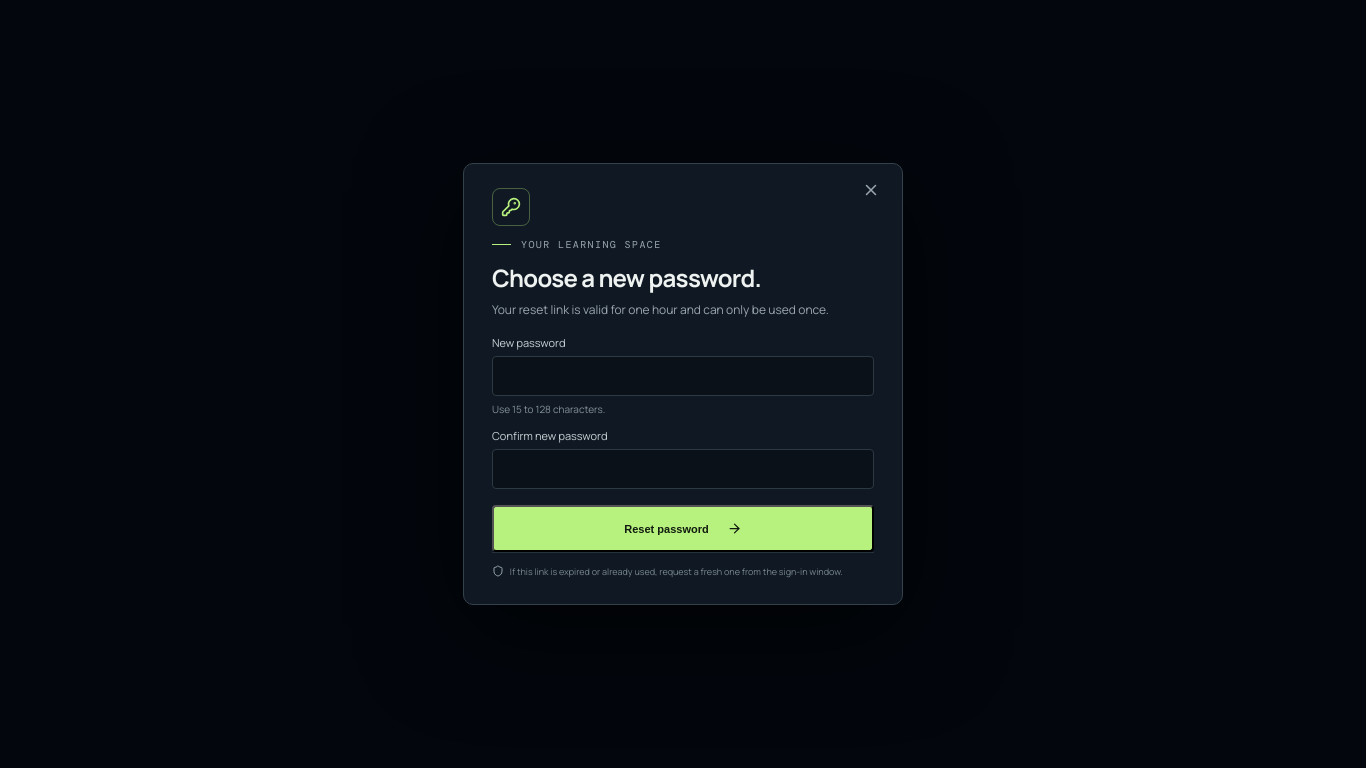
Test: email account links › resets a password with the email token and requires matching confirmation
This screenshot has width=1366, height=768.
Type "a-long-new-password-for-testing" into the password field labelled "New password Use 15 to 128 characters.".
click(683, 376); type("a-long-new-password-for-testing")  # box [492,356,874,396]
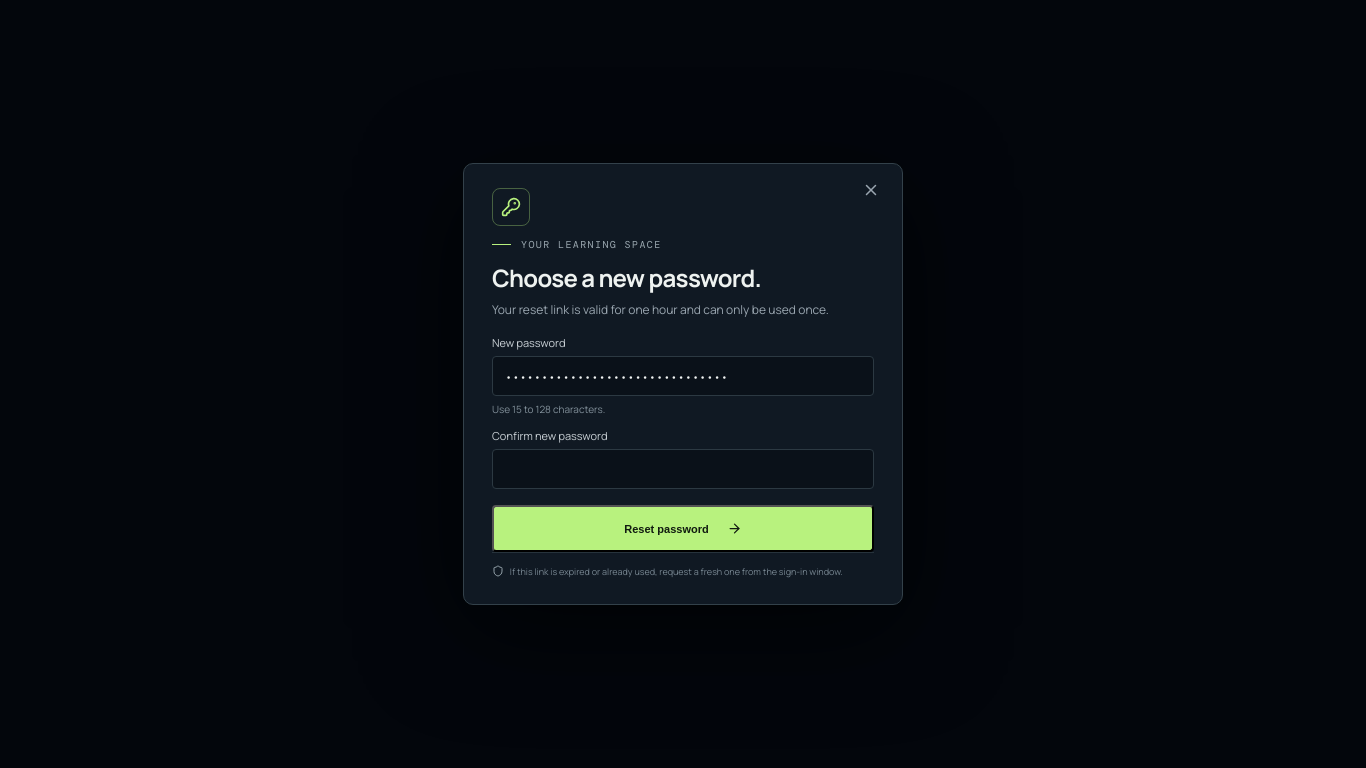
Type "a-different-new-password" into the password field labelled "Confirm new password".
click(683, 469); type("a-different-new-password")  # box [492,449,874,489]
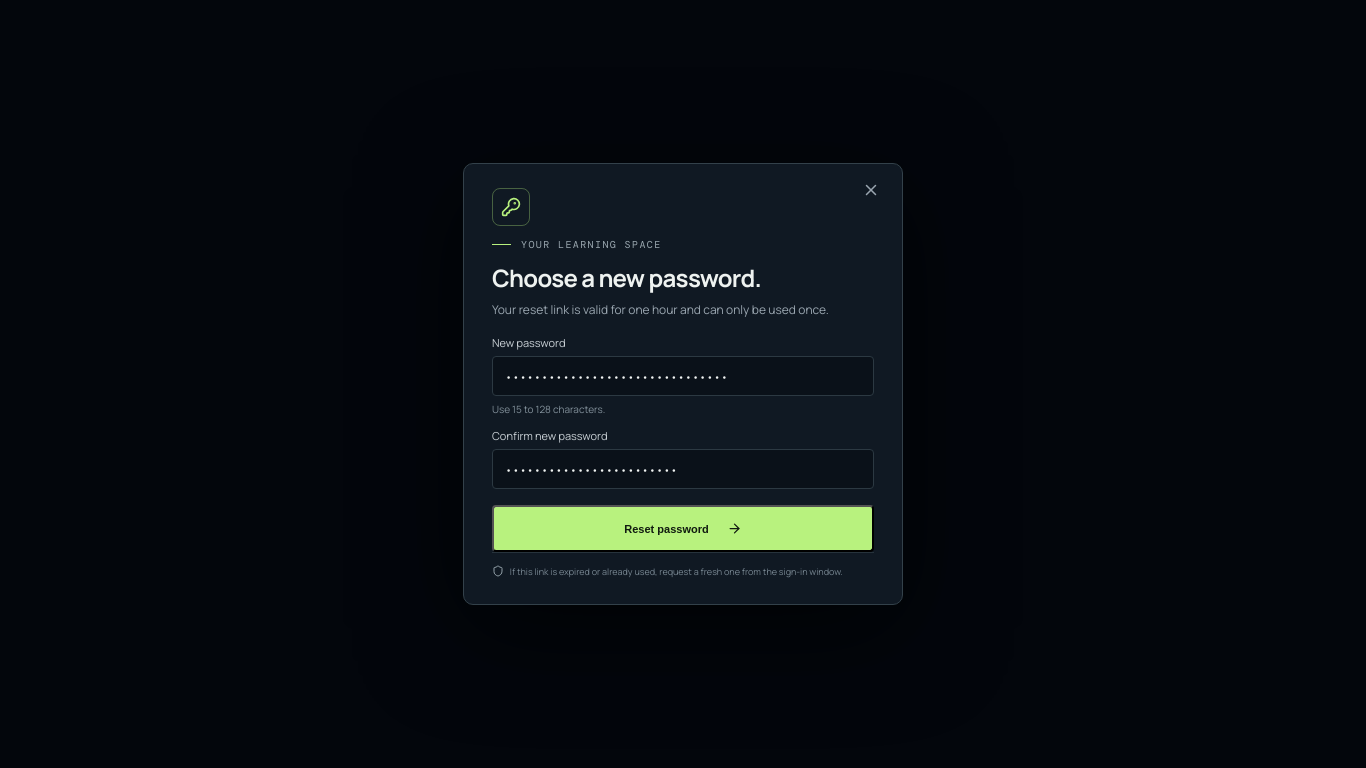
Click the button "Reset password".
click(683, 529)  # box [492,505,874,552]
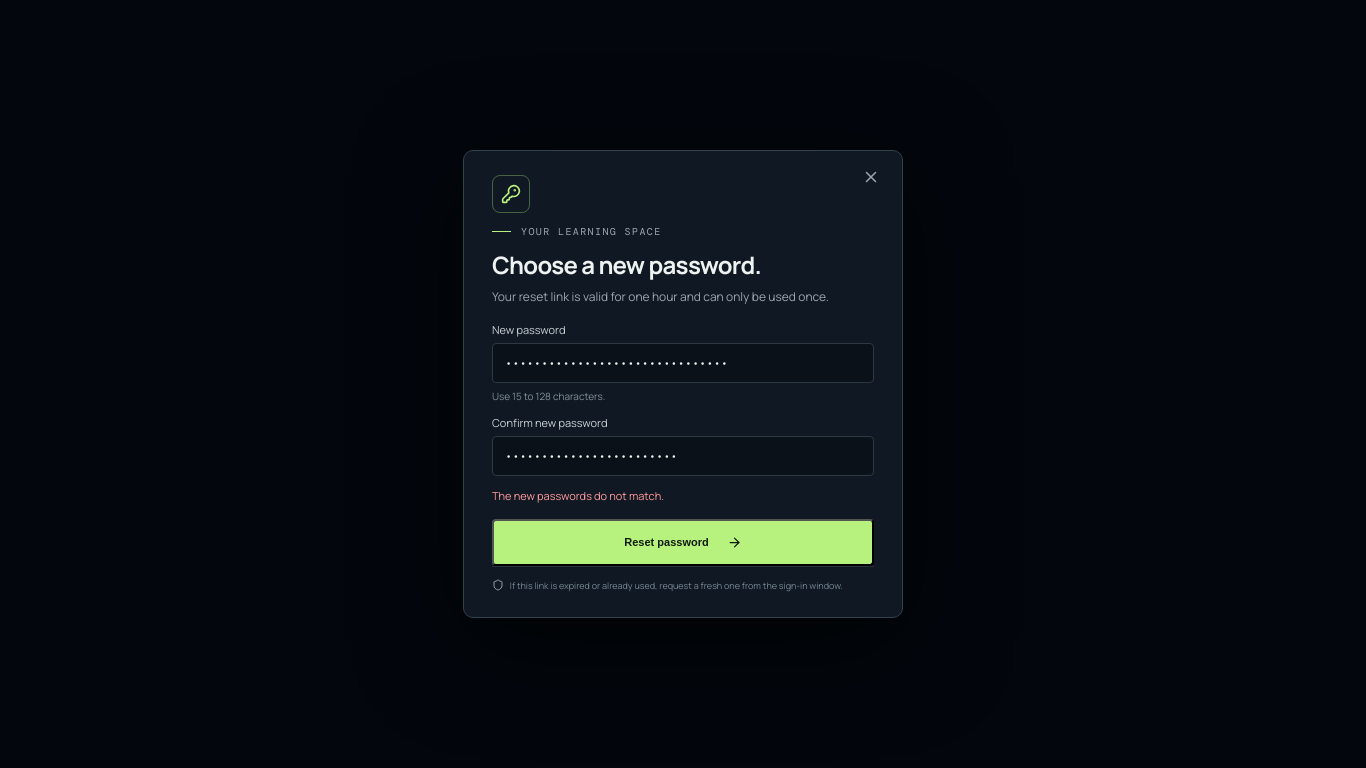
Expected: the message reads "The new passwords do not match.", [492,488,664,503]
Type "a-long-new-password-for-testing" into the password field labelled "Confirm new password".
click(683, 456); type("a-long-new-password-for-testing")  # box [492,436,874,476]
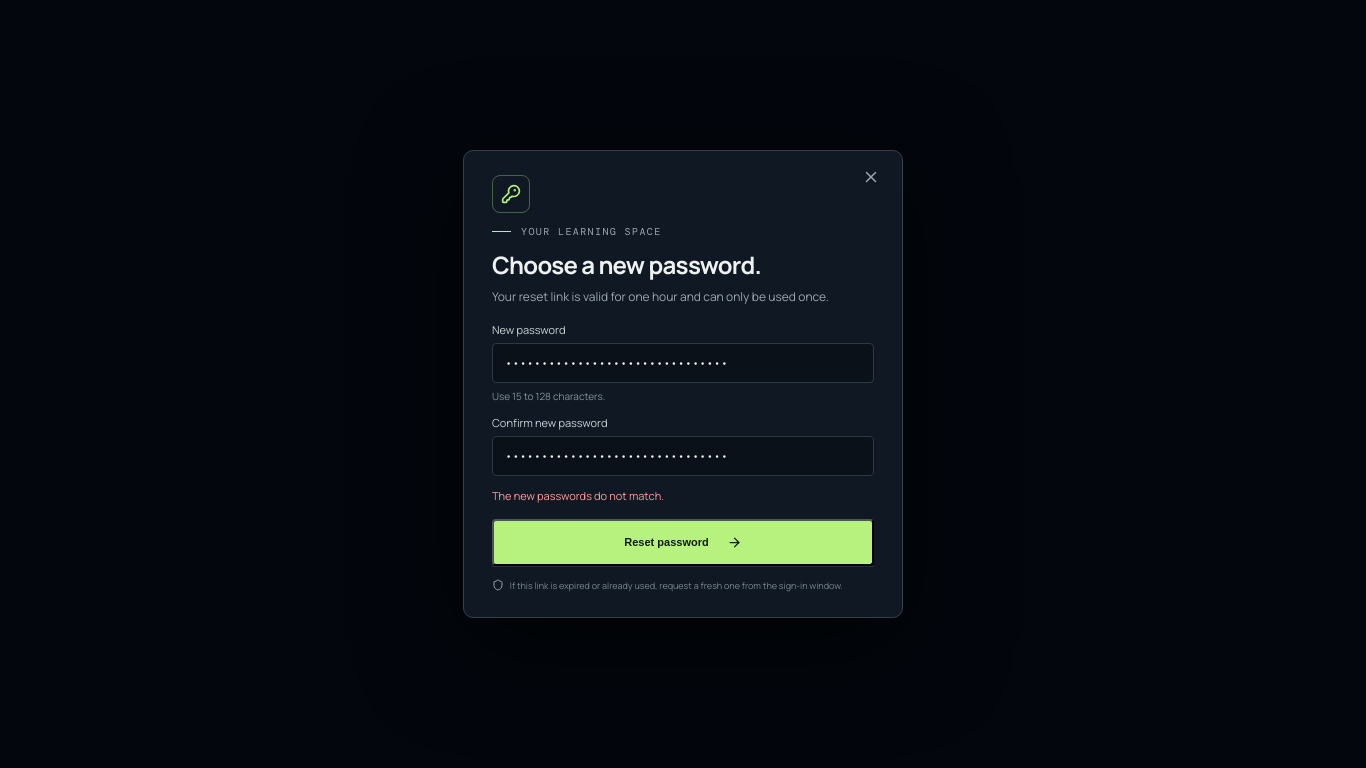
Click the button "Reset password".
click(683, 542)  # box [492,519,874,566]
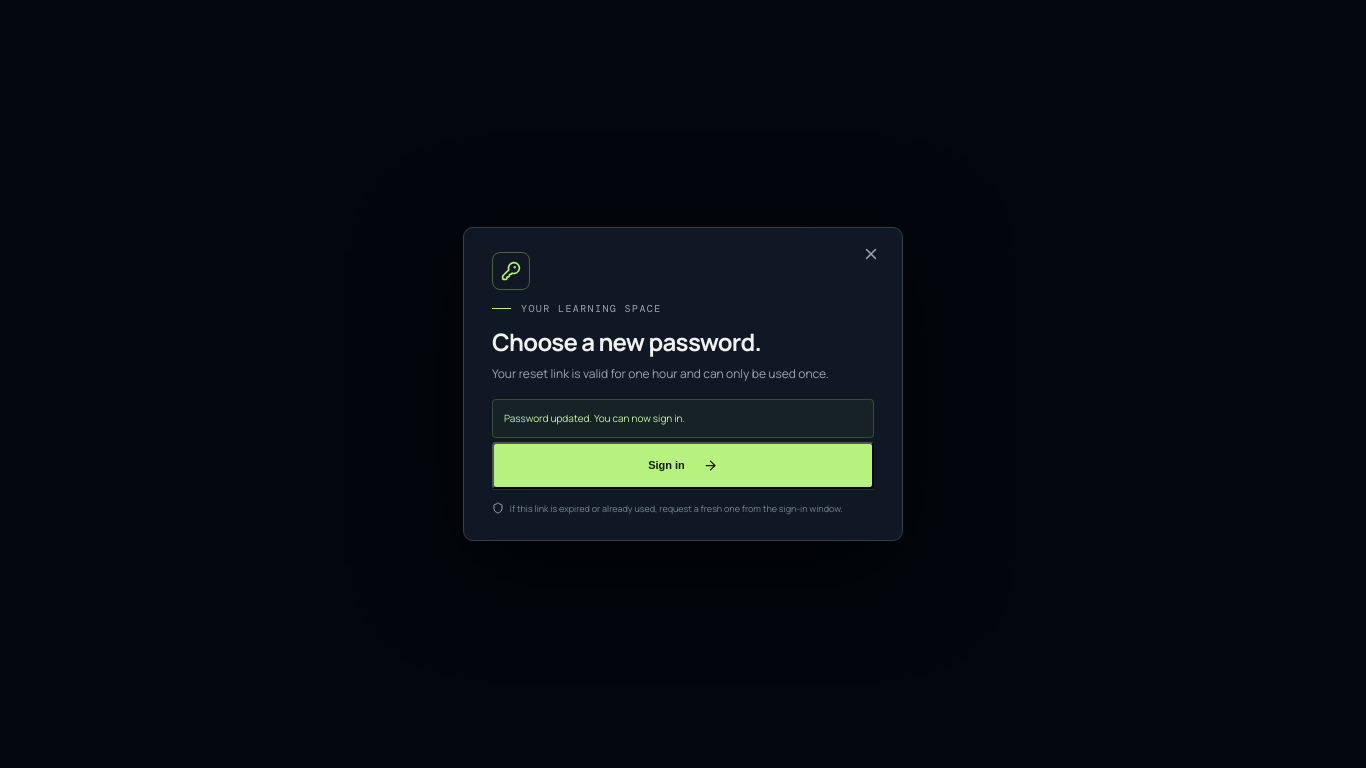
Expected: the message shows "Password updated", [504,411,685,425]
